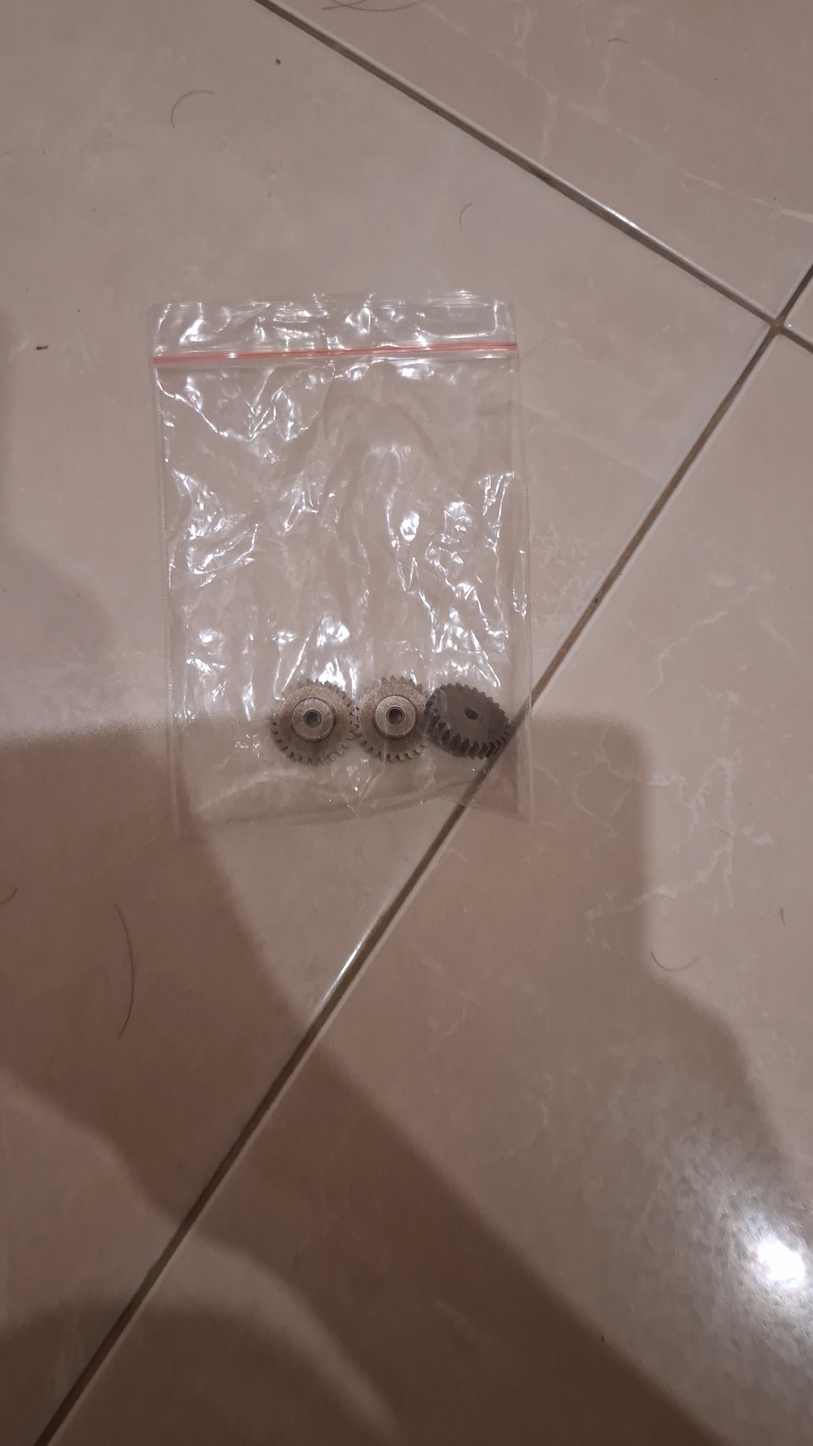spur gear: (271, 680, 357, 763), (425, 683, 509, 758), (358, 677, 425, 760)
